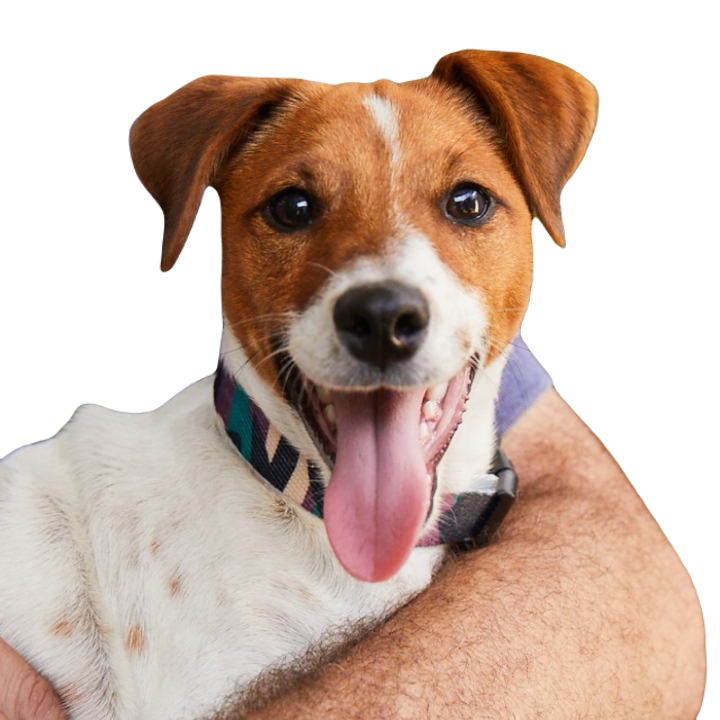Dog: (15, 52, 599, 711)
